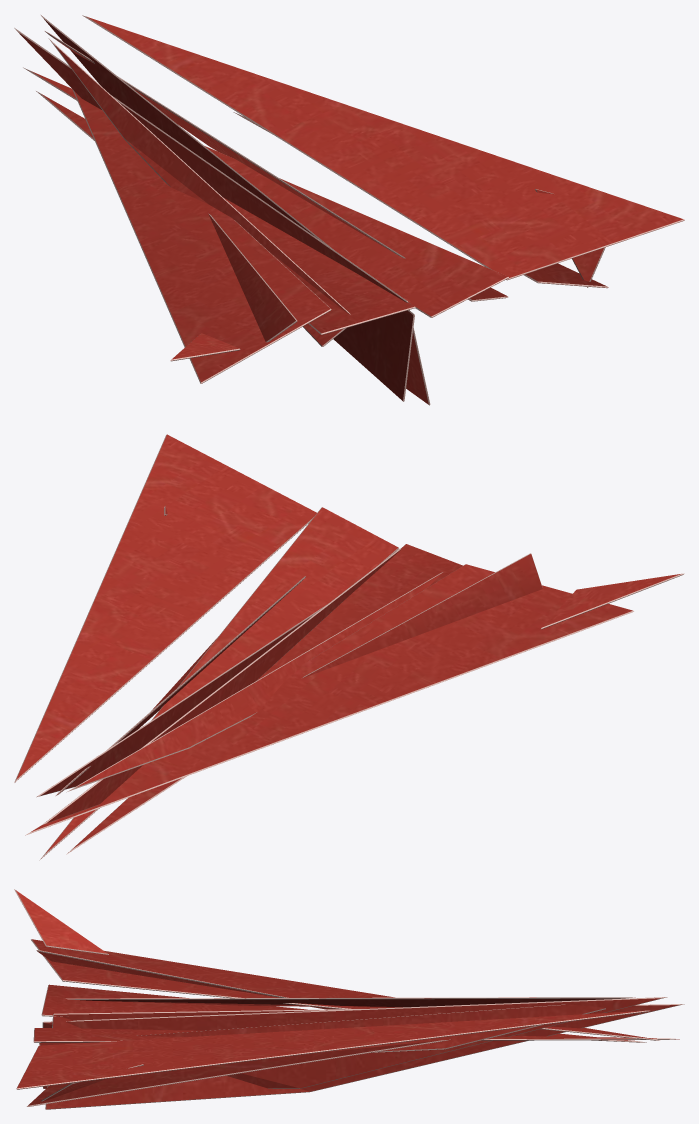
The model's file is plane_damaged_red.glb.
3 views of the same model, one above another, from view 1: azimuth 30°, elevation 25°; view 2: azimuth 150°, elevation 25°; view 3: azimuth 270°, elevation 25° (orthographic). The views are drawn at different scales.
Parts seen in each view (by area): view 1: wing_r, wing_l, plane; view 2: wing_r, wing_l, plane; view 3: wing_r, wing_l, plane.
Boxes of the visible parts, box(x1,y1,x2,y2) form: wing_r: box(23, 15, 684, 317); wing_l: box(36, 38, 415, 383); plane: box(14, 15, 430, 405); wing_r: box(14, 434, 398, 860); wing_l: box(25, 544, 684, 854); plane: box(36, 548, 400, 824); wing_r: box(16, 1004, 679, 1106); wing_l: box(14, 889, 660, 1042); plane: box(42, 997, 684, 1109).
Bounding box in the file's own units: 0.2255 × 0.0589 × 0.3018.
1 material, 1 textured.
